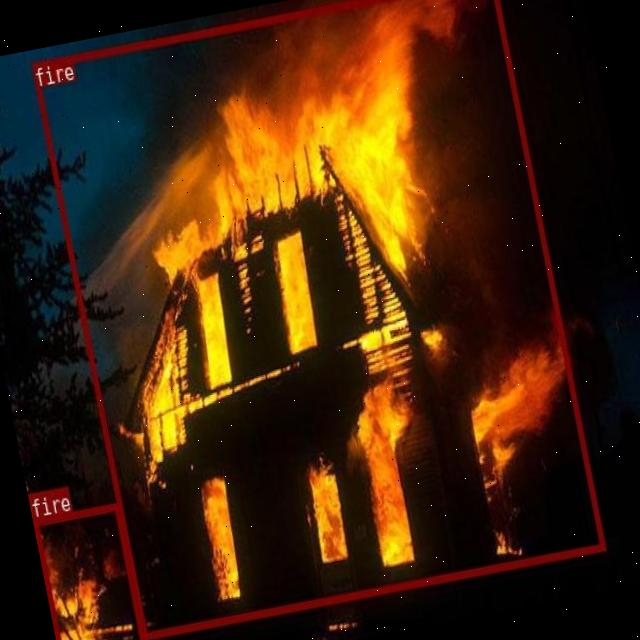fire: (30, 0, 604, 638), (32, 501, 150, 640)
